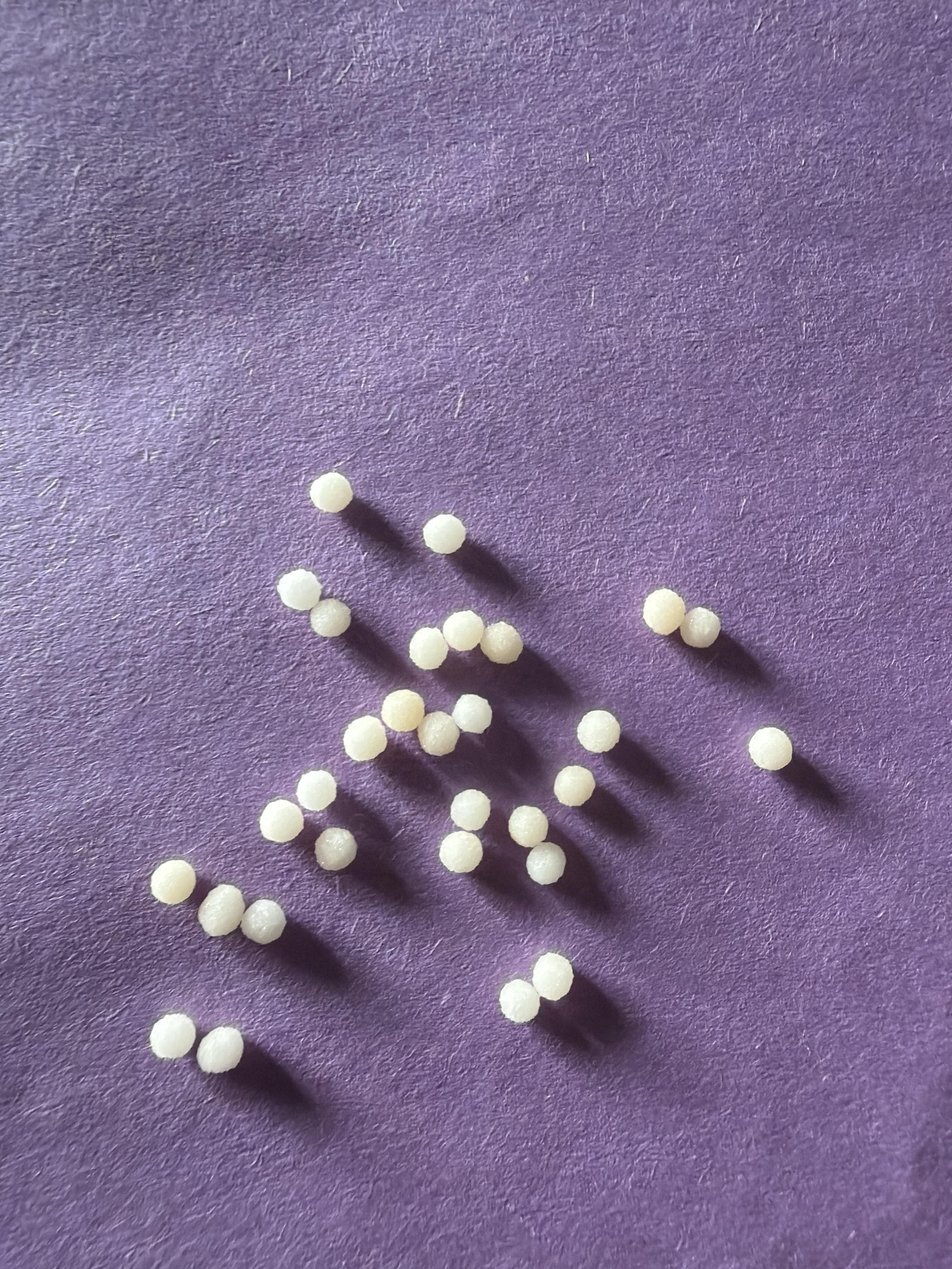pill: (198, 883, 245, 937), (196, 1026, 243, 1073), (149, 1013, 196, 1059), (240, 899, 286, 945), (150, 859, 196, 905), (532, 952, 574, 1001), (748, 726, 793, 771), (343, 715, 387, 761), (643, 588, 685, 635), (259, 799, 303, 843), (381, 689, 425, 732), (277, 569, 322, 611), (417, 711, 459, 756), (480, 621, 523, 664), (577, 710, 620, 753), (439, 831, 483, 873), (315, 827, 357, 871), (499, 979, 540, 1023), (309, 472, 353, 513), (553, 765, 595, 807), (422, 514, 466, 554), (442, 610, 484, 651), (680, 606, 721, 648), (296, 770, 337, 812), (508, 805, 548, 848), (450, 789, 490, 832), (408, 627, 448, 670), (526, 841, 565, 885), (309, 598, 351, 637), (452, 693, 491, 734)
